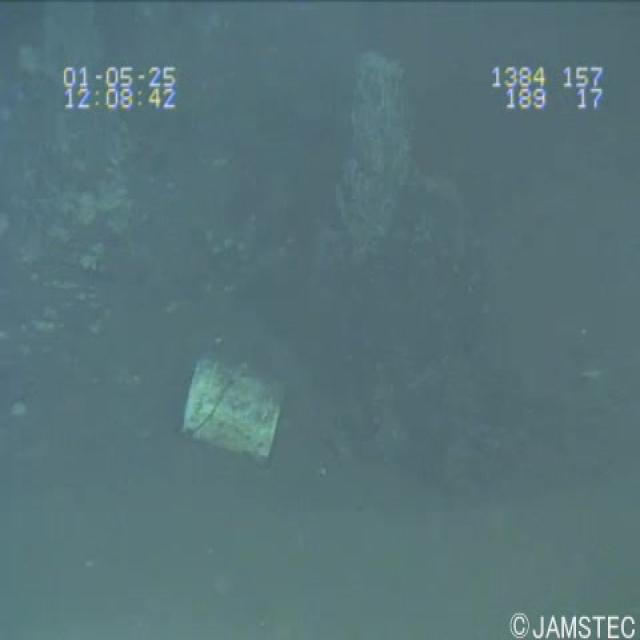plastic: (168, 345, 292, 469)
